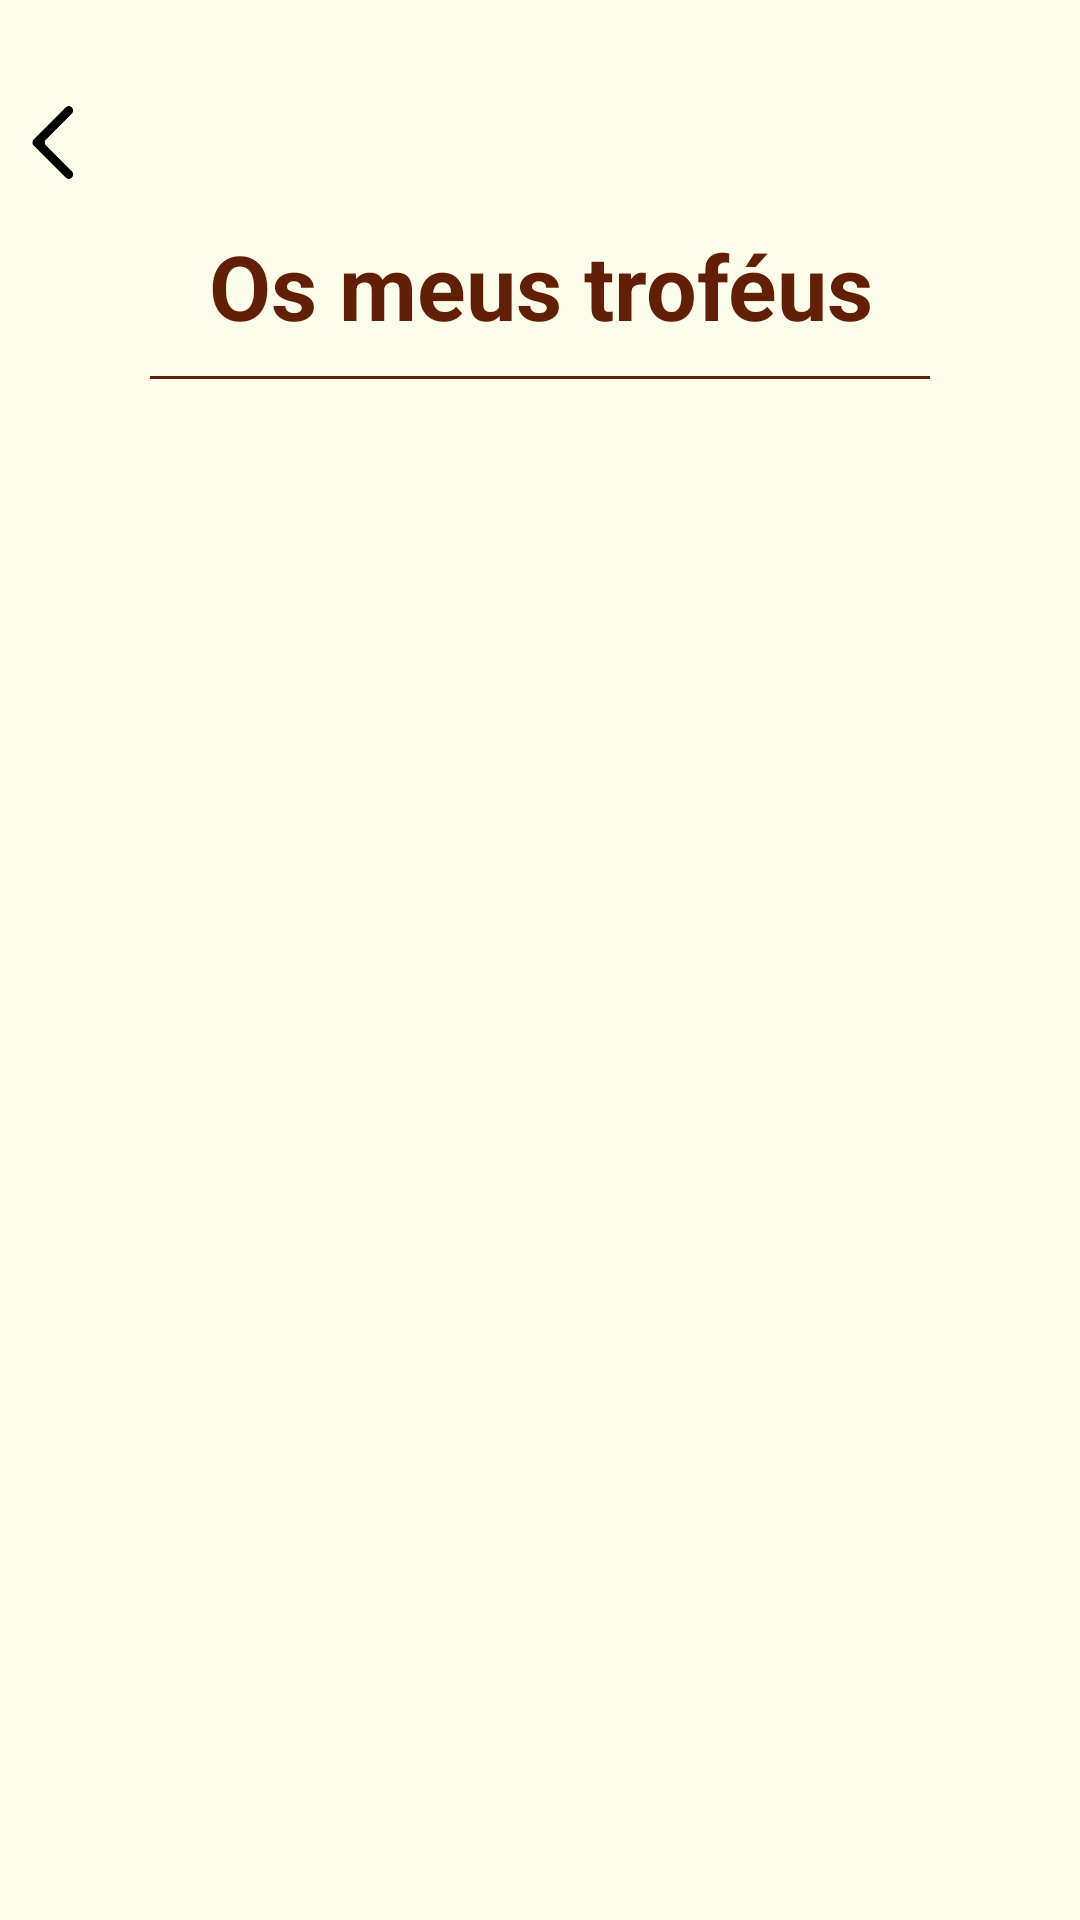

Screen size 1080×1920. Icon name, then its box in pixels as detection(x1, y1, x2, y2):
Back button: detection(32, 106, 73, 179)
